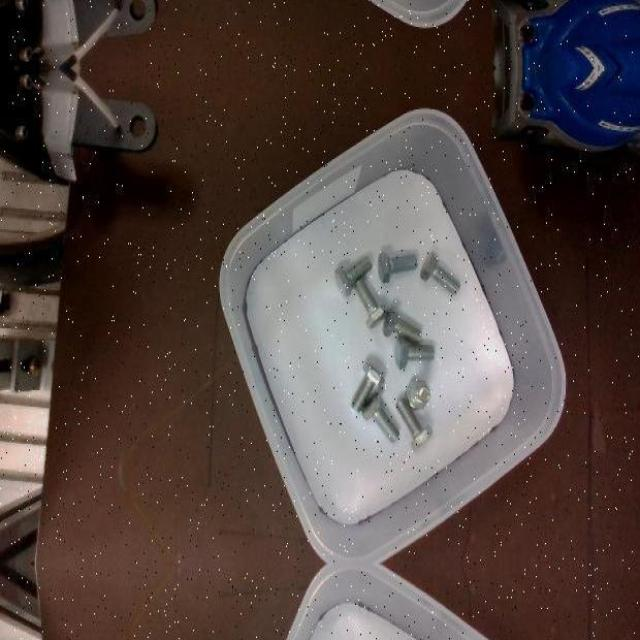screw: (396, 396, 432, 450), (362, 392, 399, 442), (419, 251, 460, 296), (353, 276, 388, 328), (350, 363, 385, 413), (382, 303, 422, 345), (334, 256, 372, 297), (394, 334, 435, 369), (378, 250, 418, 283), (404, 377, 430, 408)
